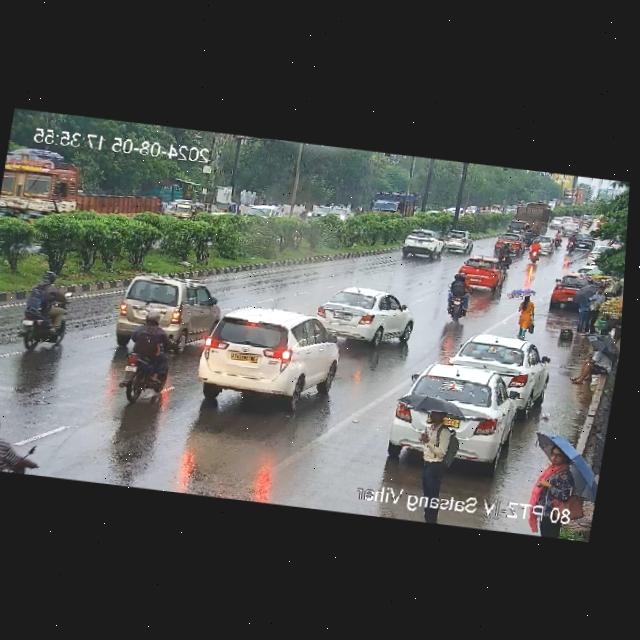car: (398, 362, 530, 450), (449, 329, 554, 399), (309, 283, 419, 349), (546, 270, 604, 312), (454, 254, 508, 292), (397, 228, 447, 260), (168, 198, 203, 223), (442, 229, 472, 254), (497, 231, 524, 252), (569, 231, 596, 250), (585, 243, 607, 265), (509, 219, 529, 234), (550, 216, 566, 228), (563, 223, 579, 234)
motorcycle: (111, 312, 180, 407), (14, 269, 80, 356), (0, 415, 51, 476), (442, 270, 475, 324), (524, 239, 544, 262), (497, 241, 514, 266), (562, 232, 578, 252)
person: (408, 404, 460, 491), (524, 431, 574, 505), (572, 345, 616, 391), (510, 292, 535, 340), (586, 285, 604, 334), (575, 295, 591, 334)
truck: (186, 301, 347, 416), (0, 139, 172, 229), (106, 269, 222, 350), (369, 188, 417, 214), (514, 199, 553, 223)
